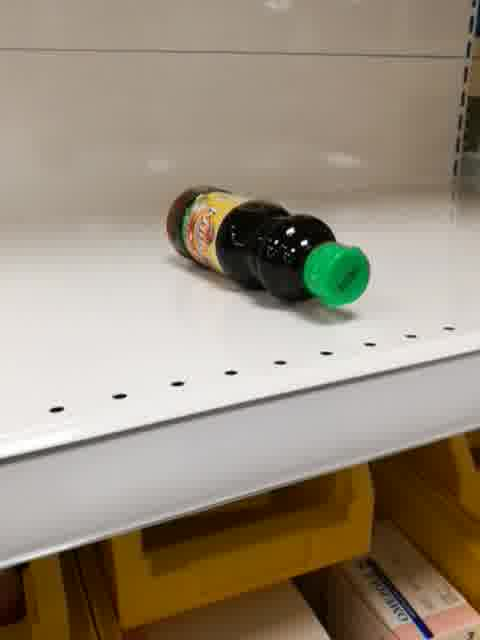cookingoil: (164, 184, 372, 309)
